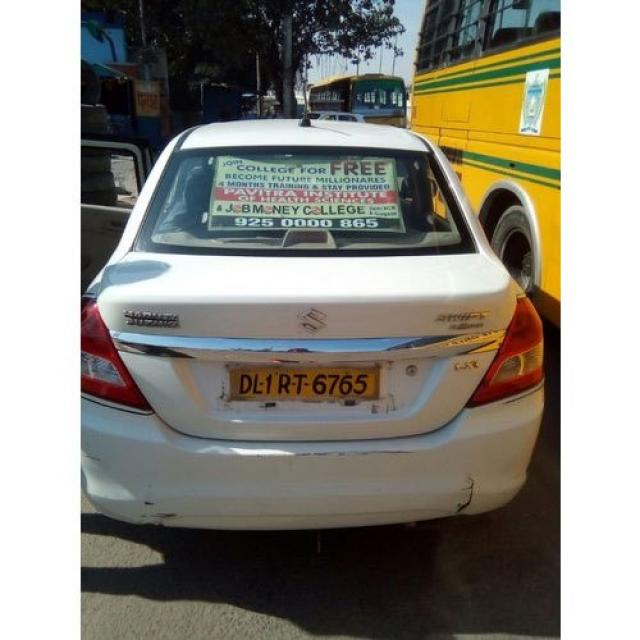Number-Plate: (228, 364, 377, 403)
